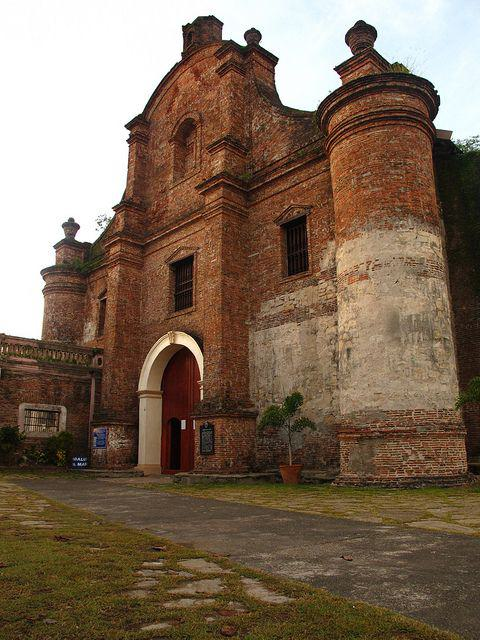Environmental Damage: (59, 247, 107, 279)
Sta. Maria Church: (41, 6, 463, 477)
Unfinished Paint: (249, 281, 466, 415)
